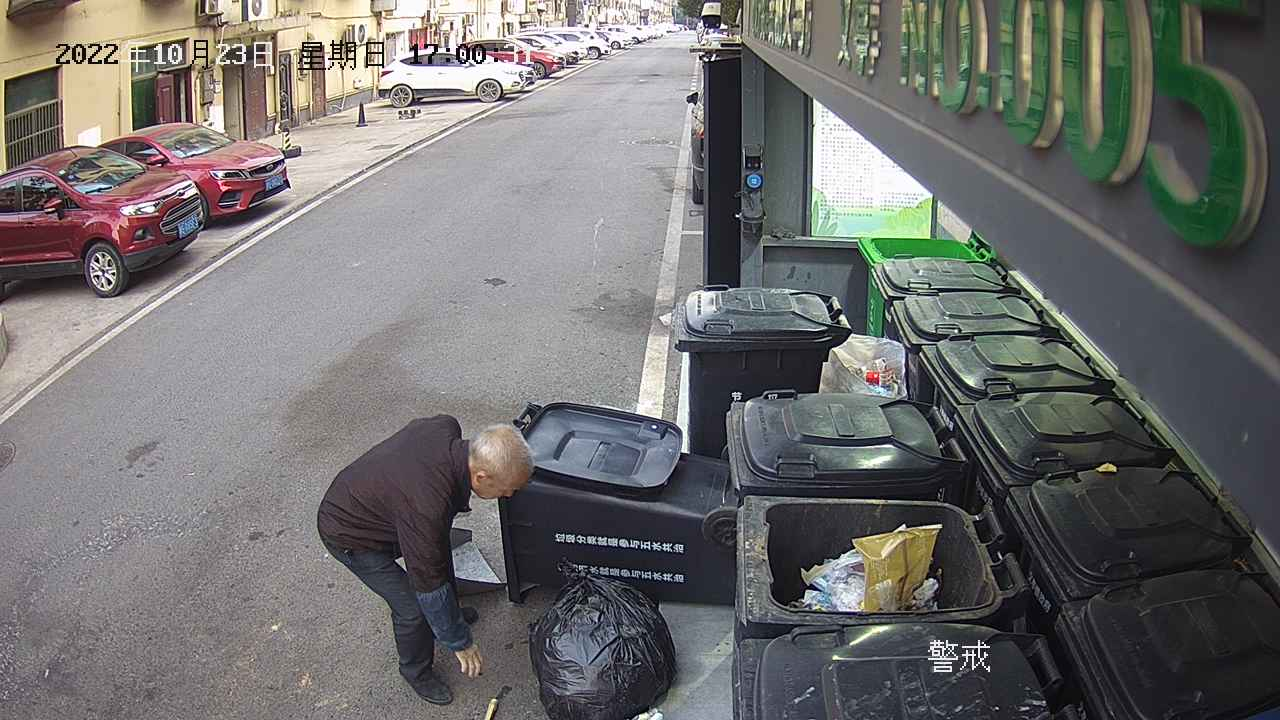garbage-bag: (523, 550, 688, 720)
person: (310, 406, 543, 711)
